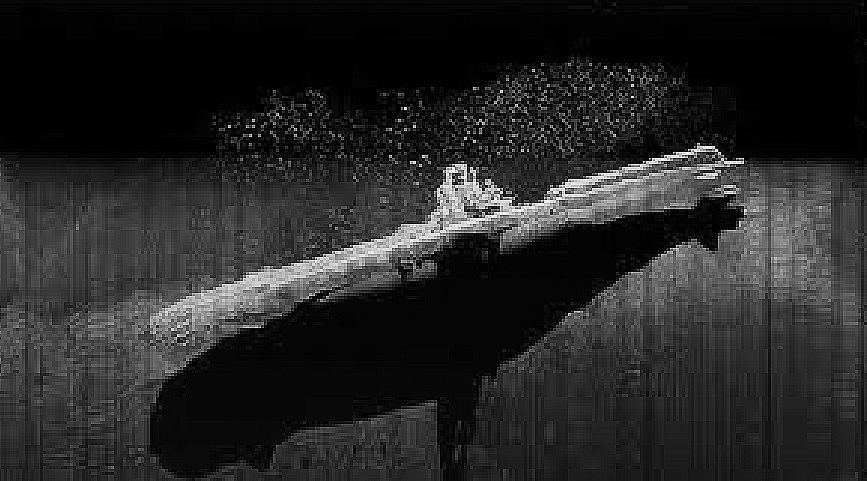ship: (148, 143, 744, 357)
